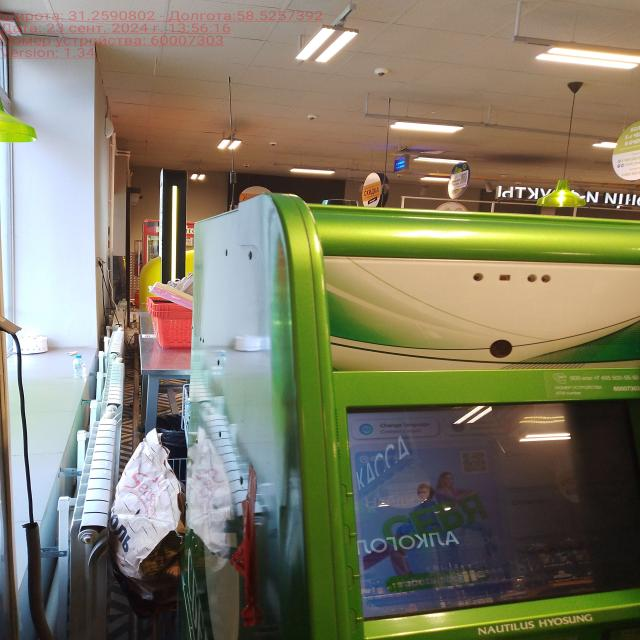bank: (176, 197, 640, 640)
